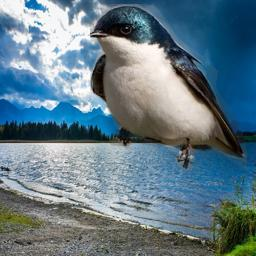Swallow: (90, 4, 247, 171)
